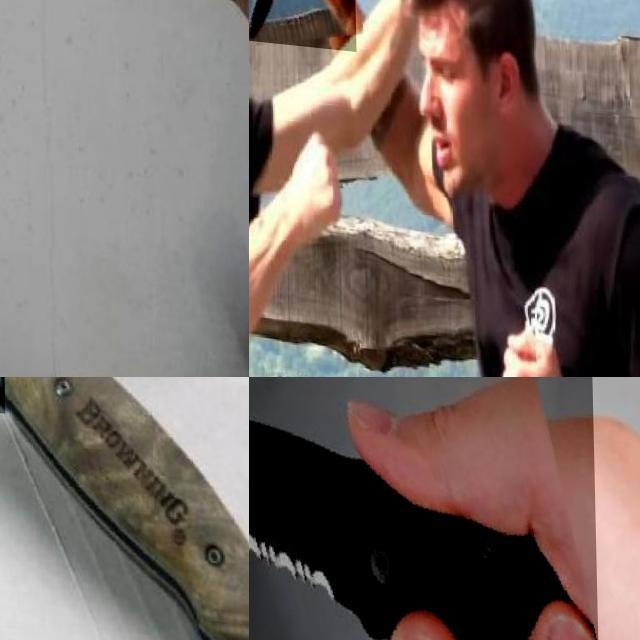-: (249, 377, 599, 640), (0, 377, 162, 550), (0, 0, 243, 74), (249, 0, 355, 103)
